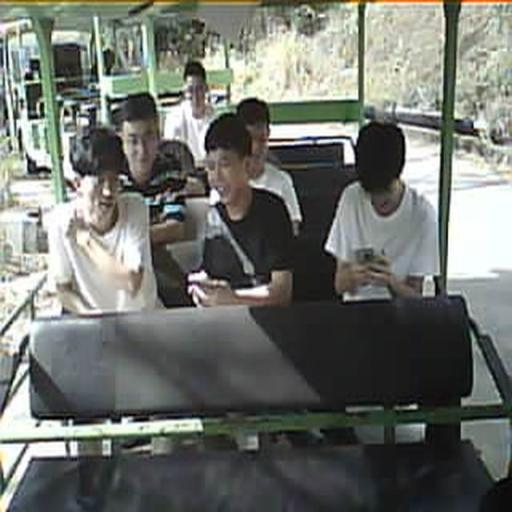persona: (45, 126, 165, 316), (186, 111, 295, 309), (324, 118, 440, 300), (109, 91, 191, 243), (234, 96, 304, 238), (162, 60, 220, 168)
